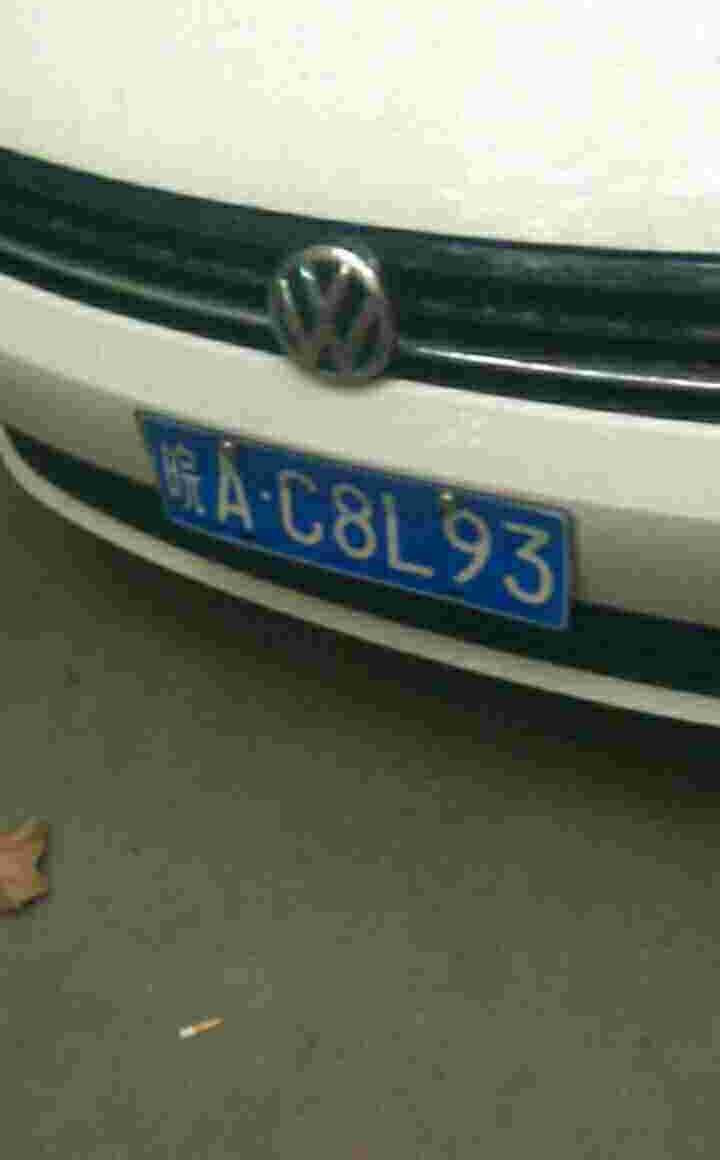license_plate: (133, 432, 586, 634)
